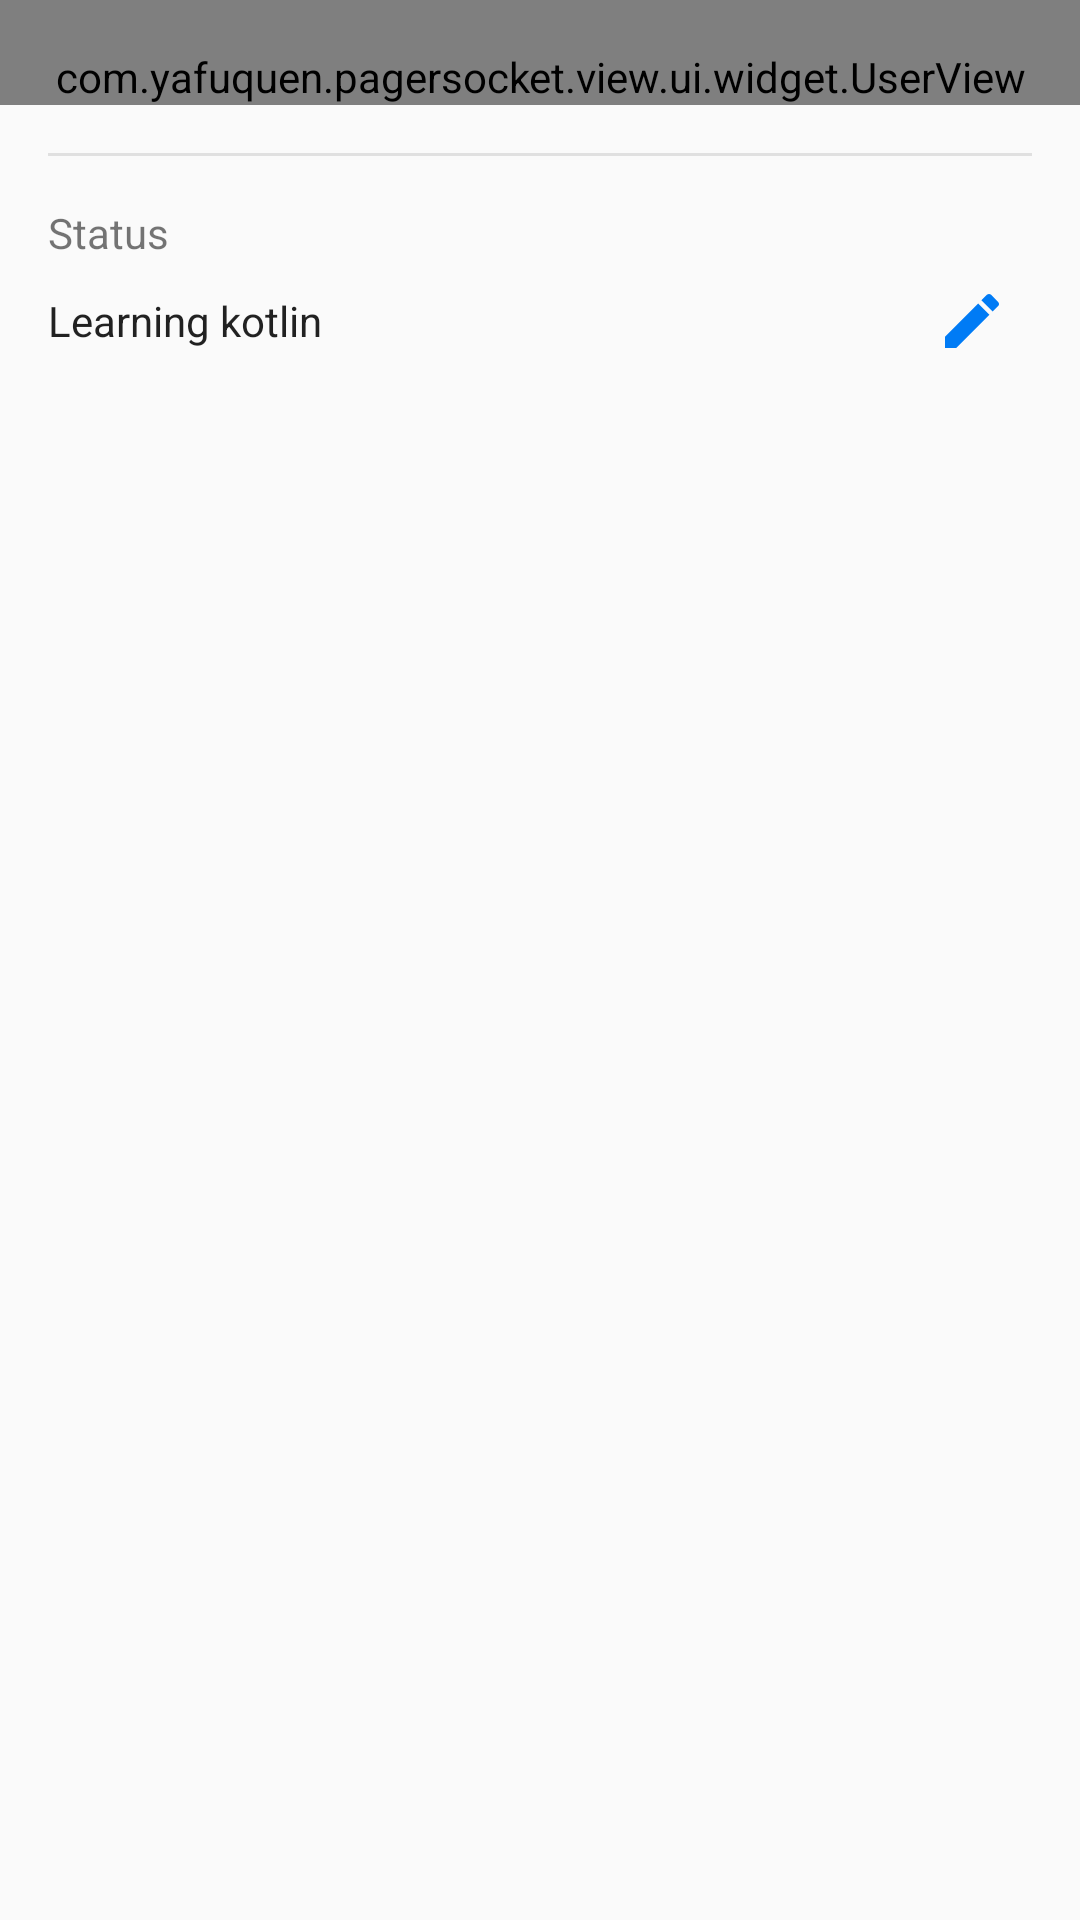

Icon bounding boxes for this 1080 × 1920 phone screenshot, format (left=x1, top=y1, right=x2, bottom=y2):
Edit: (left=945, top=294, right=999, bottom=348)
